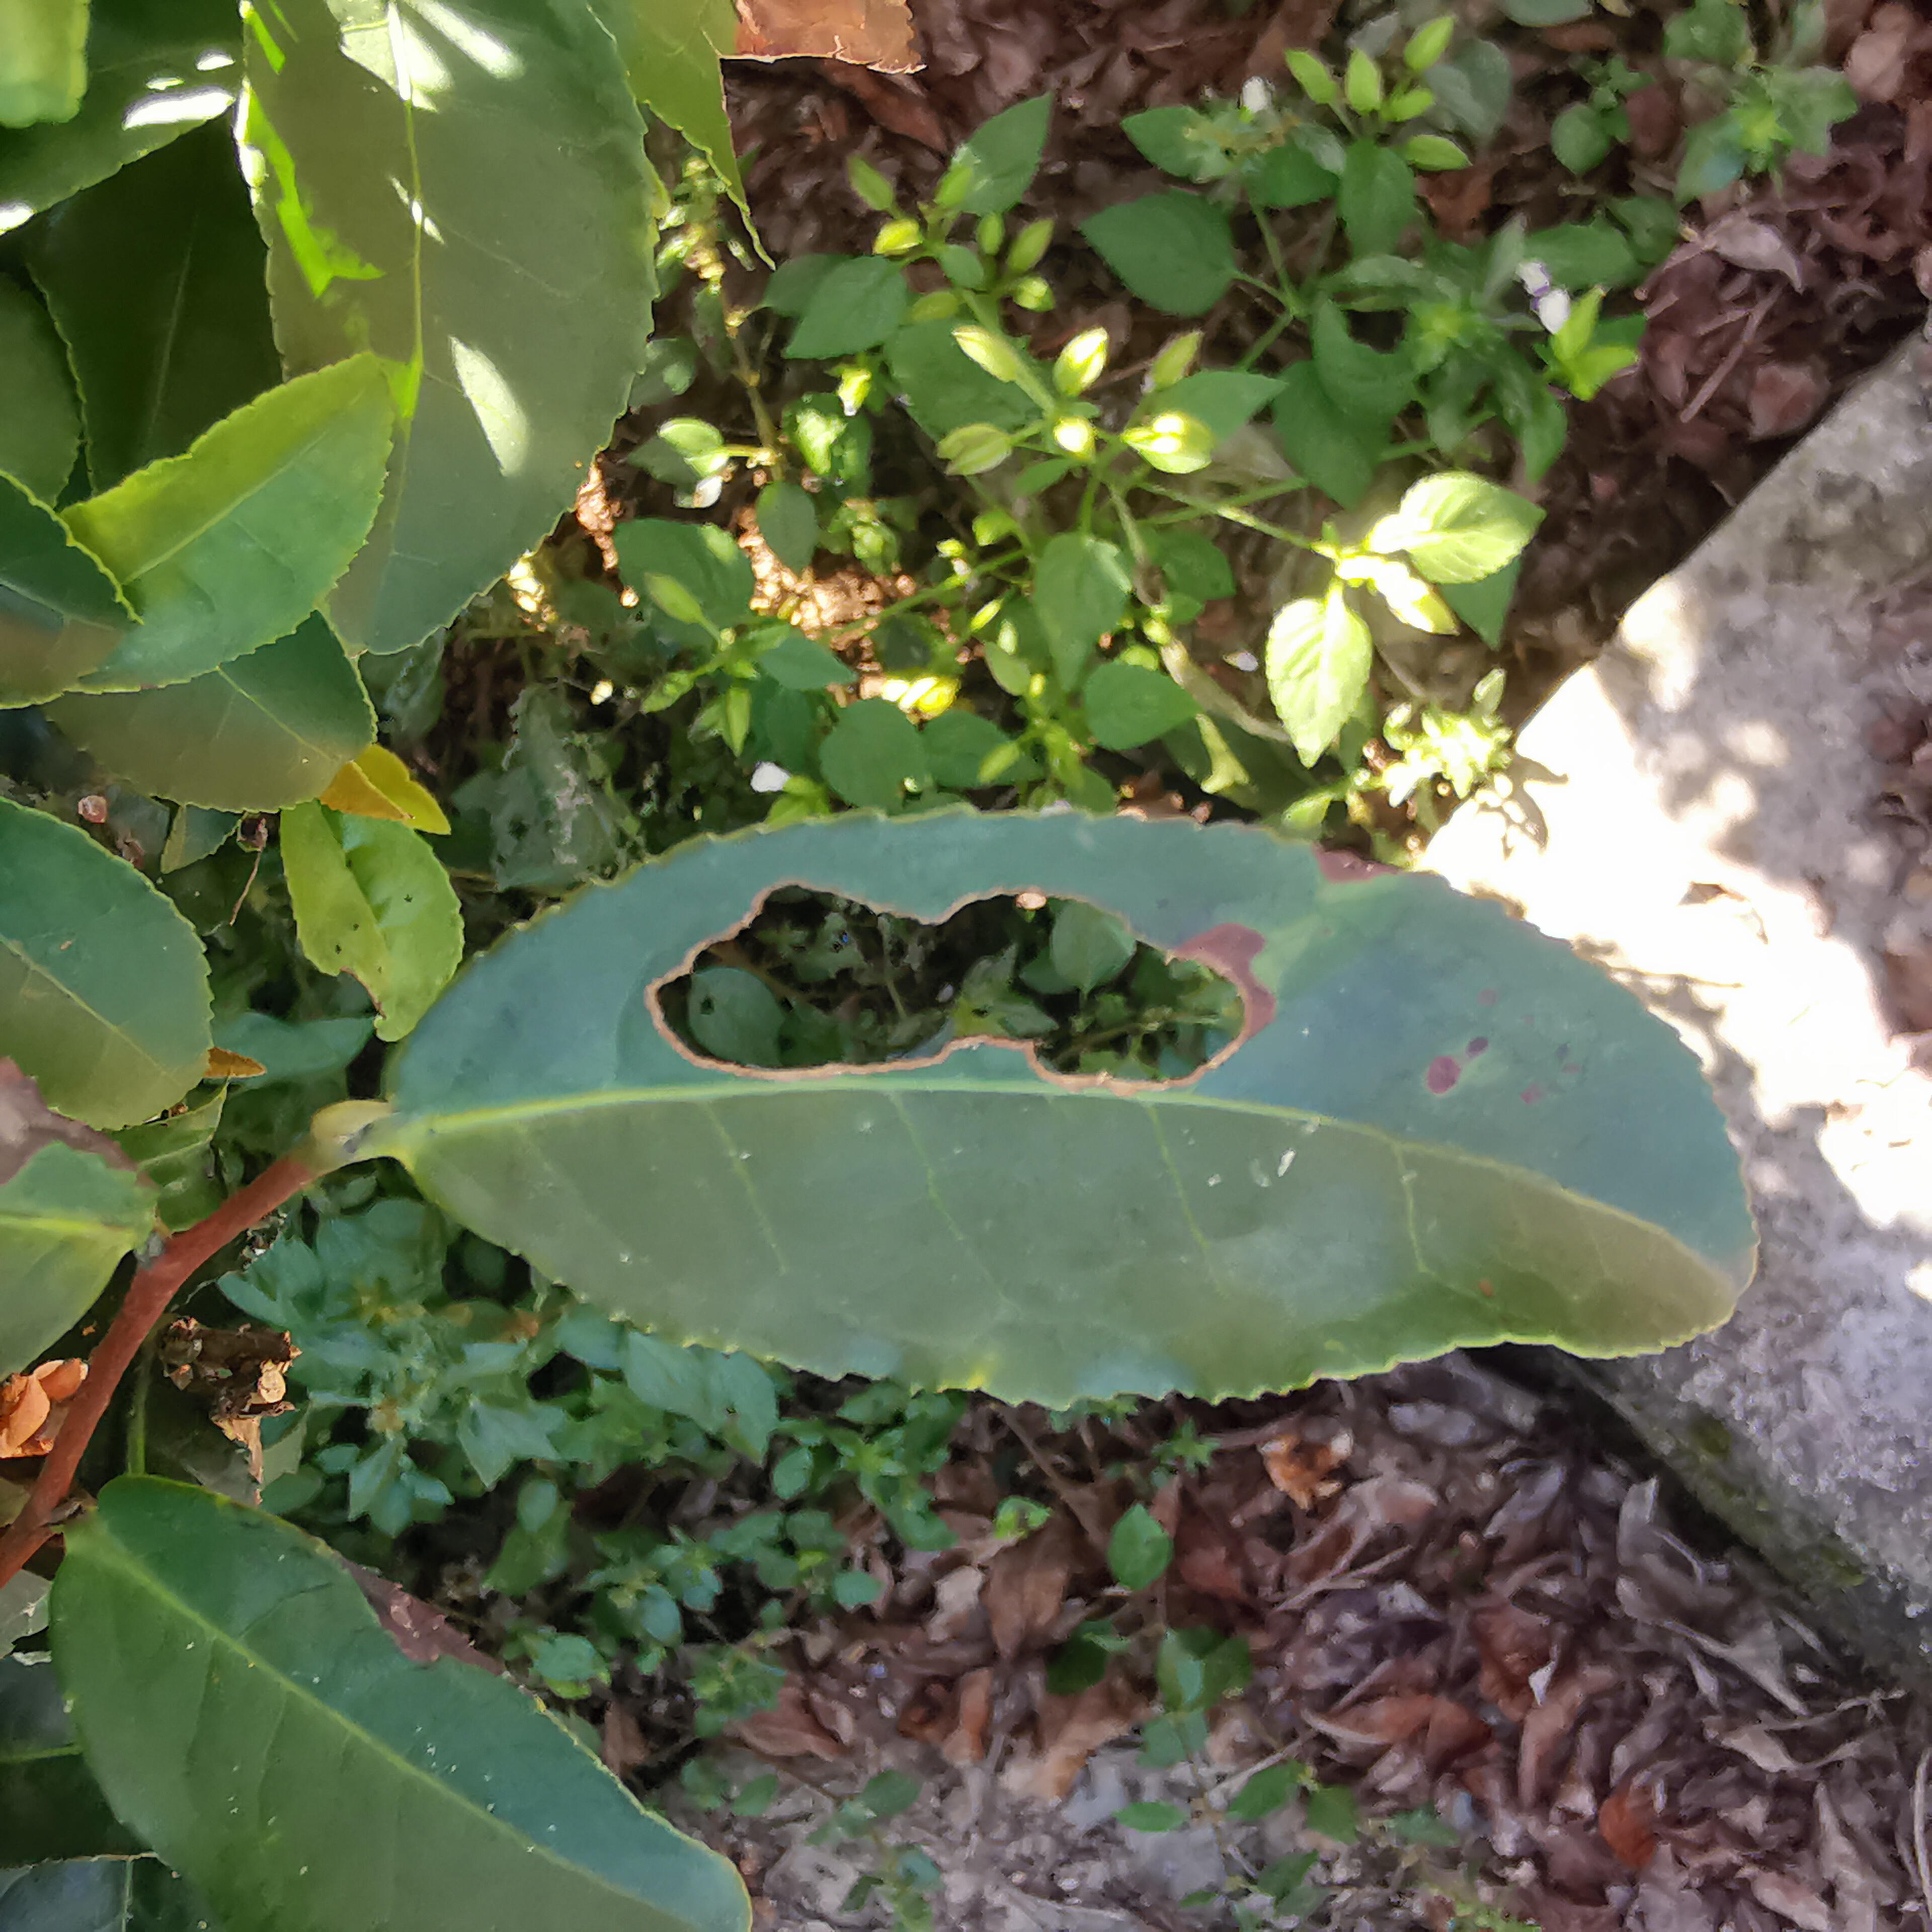chihuo_high: (379, 796, 1769, 1417)
tanju_high: (42, 1474, 752, 1928)
